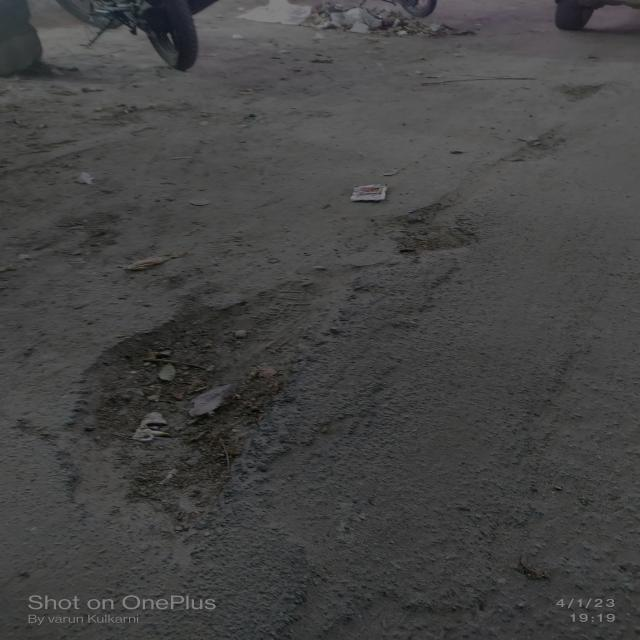potholes: (71, 260, 388, 512), (394, 208, 486, 254), (507, 135, 553, 168)
